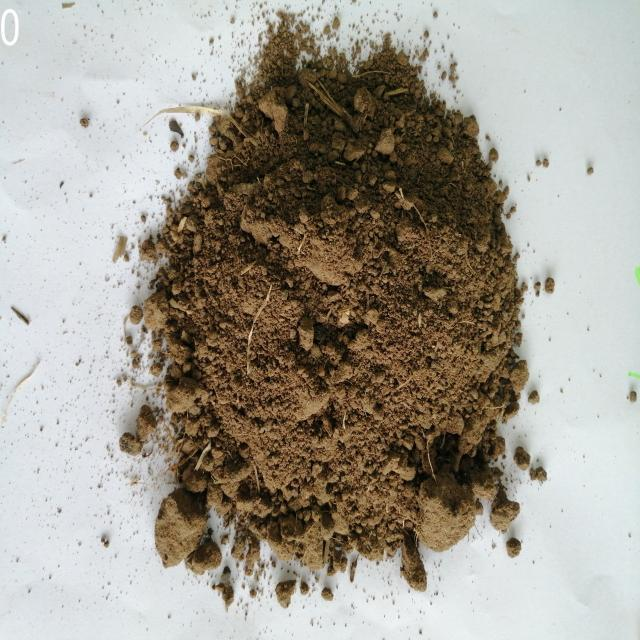soil: (243, 116, 451, 498)
